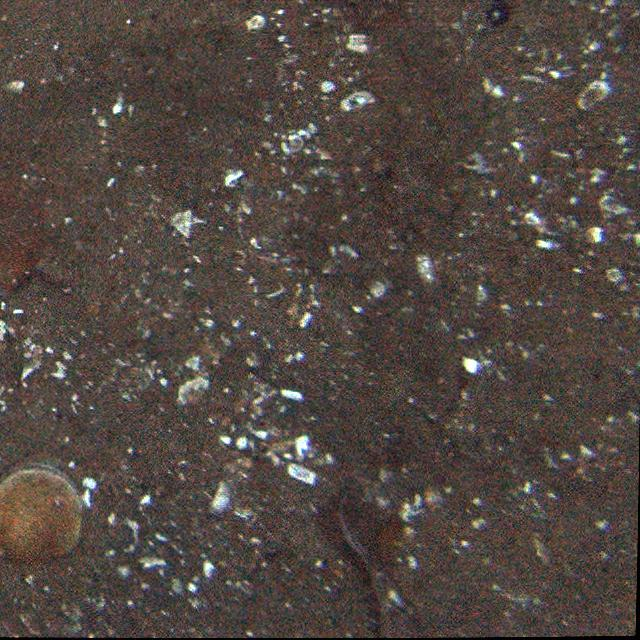roundfish: (326, 500, 427, 640)
